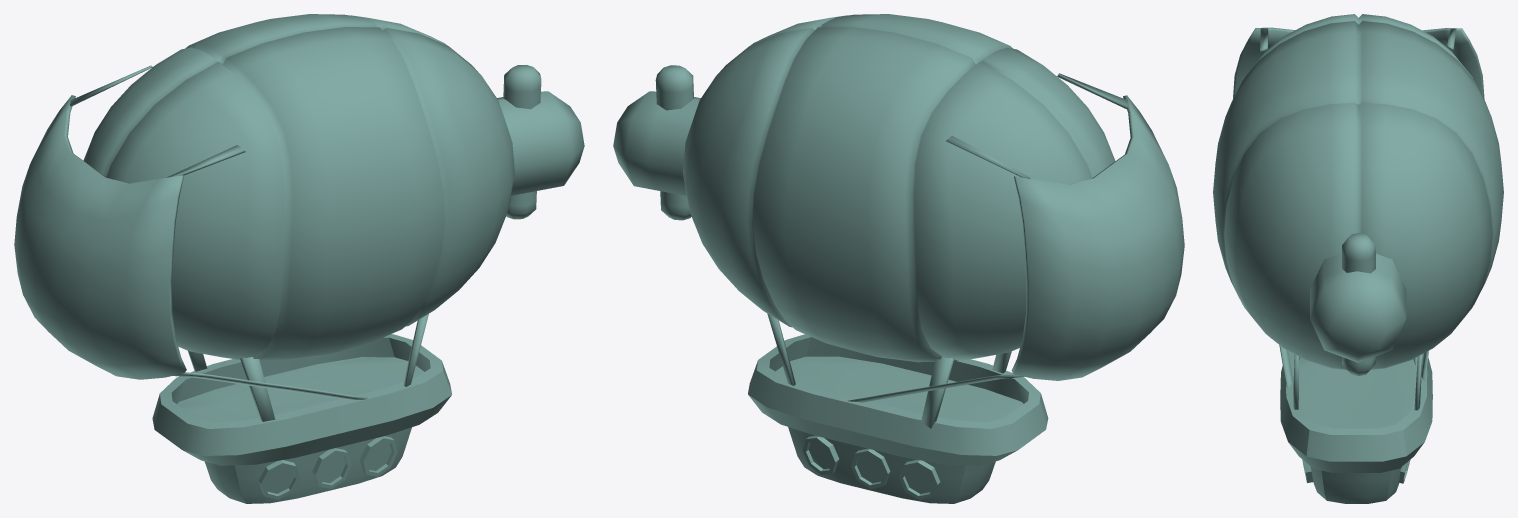
The model's file is blimp blue.fbx.
3 views of the same model, side by side, from view 1: azimuth 30°, elevation 25°; view 2: azimuth 150°, elevation 25°; view 3: azimuth 270°, elevation 25° (orthographic). The views are drawn at different scales.
Visible parts, largest first — view 1: blimp blue; view 2: blimp blue; view 3: blimp blue.
Boxes of the visible parts, box(x1,y1,x2,y2) form: blimp blue: box(14, 14, 584, 503); blimp blue: box(613, 14, 1184, 503); blimp blue: box(1213, 14, 1503, 503).
Size of the model in its own units: 2775 by 2187 by 1389.
